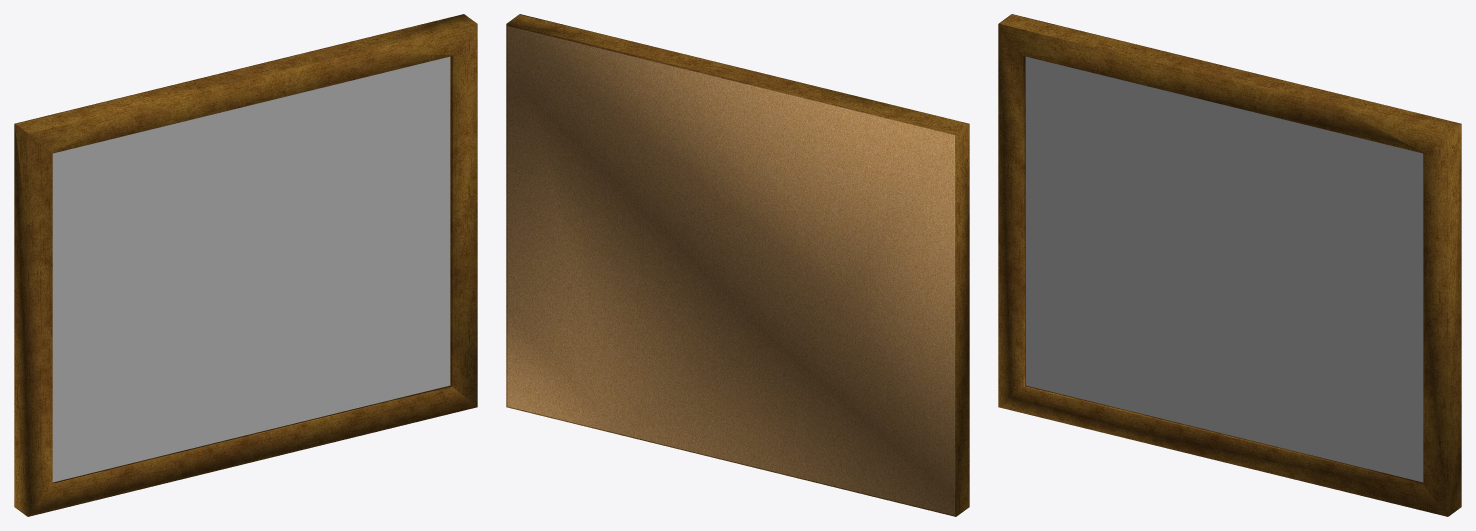
File: B075YLXYY7.glb
The picture shows the model from 3 angles, left to right: view 1: azimuth 30°, elevation 25°; view 2: azimuth 150°, elevation 25°; view 3: azimuth 330°, elevation 25°; orthographic projection.
Visible parts, largest first — view 1: RootNode; view 2: RootNode; view 3: RootNode.
Part boxes in pixels (x1=…): RootNode: x1=14, y1=14, x2=477, y2=516; RootNode: x1=506, y1=14, x2=969, y2=516; RootNode: x1=998, y1=14, x2=1461, y2=516.
Size of the model in its own units: 0.5611 by 0.457 by 0.0292.
Materials: 1 (1 with a texture image).
